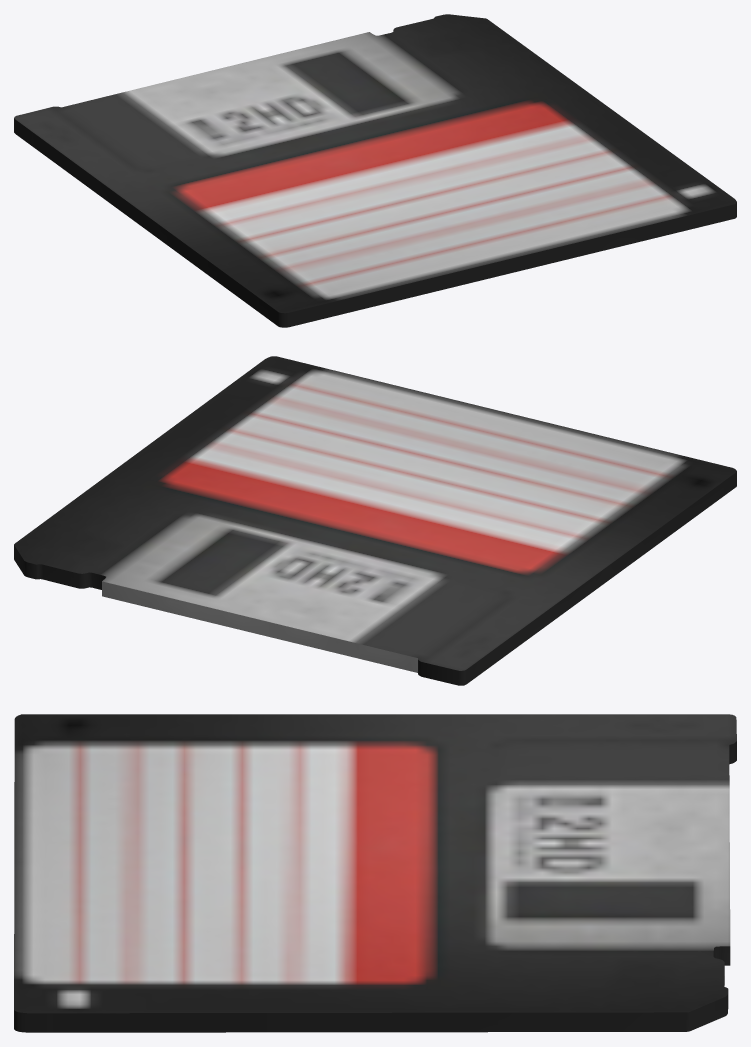
The model's file is ExportLibraryDiskette_01.FBX.
3 views of the same model, one above another, from view 1: azimuth 30°, elevation 25°; view 2: azimuth 150°, elevation 25°; view 3: azimuth 270°, elevation 25° (orthographic). The views are drawn at different scales.
Parts seen in each view (by area): view 1: diskette; view 2: diskette; view 3: diskette.
Boxes of the visible parts, left/top/right/bottom form: diskette: left=14, top=14, right=736, bottom=327; diskette: left=14, top=356, right=736, bottom=685; diskette: left=14, top=714, right=736, bottom=1032.
Bounding box in the file's own units: 3.3 × 3.37 × 0.1.
